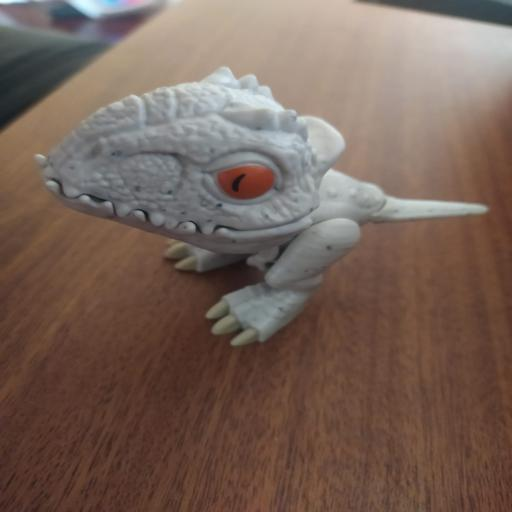Dinosaurio: (29, 63, 498, 354)
